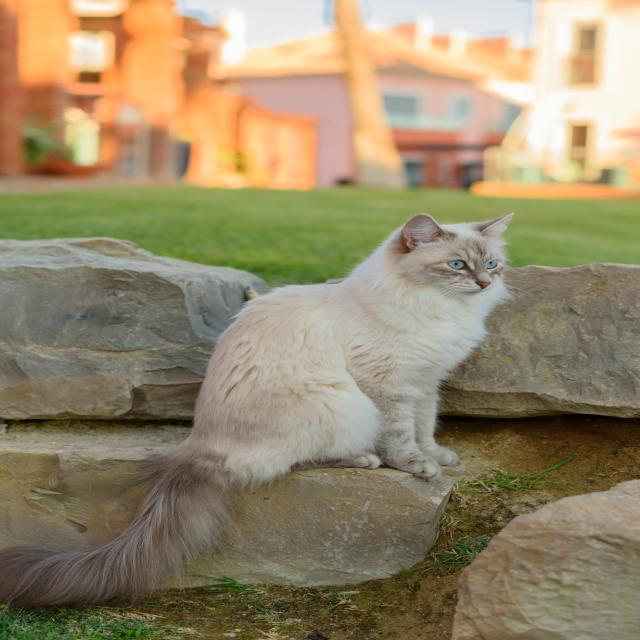Neva Masquerade: (0, 207, 522, 616)
